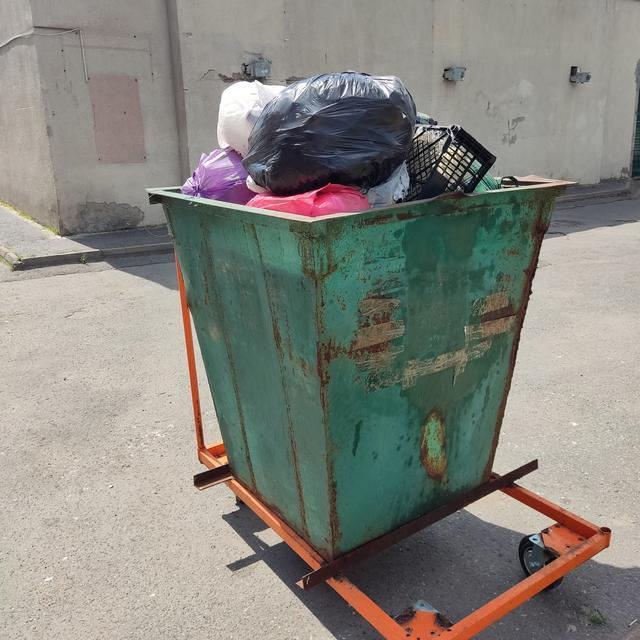Trash_Can_Full: (147, 70, 578, 559)
